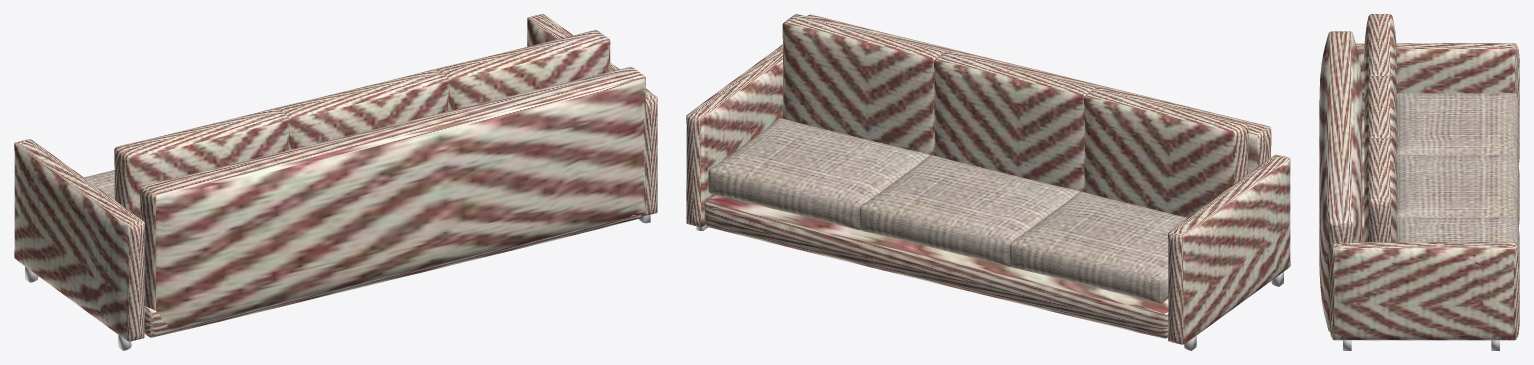
The model's file is sillon.fbx.
The picture shows the model from 3 angles, left to right: view 1: azimuth 30°, elevation 25°; view 2: azimuth 150°, elevation 25°; view 3: azimuth 270°, elevation 25°; orthographic projection. The views are drawn at different scales.
Parts seen in each view (by area): view 1: Cube; view 2: Cube; view 3: Cube.
Boxes of the visible parts, bbox=[...] form: Cube: bbox=[14, 14, 657, 350]; Cube: bbox=[686, 14, 1290, 350]; Cube: bbox=[1319, 14, 1519, 350].
Bounding box in the file's own units: 350 × 111 × 140.
Materials: 3 (2 with a texture image).
